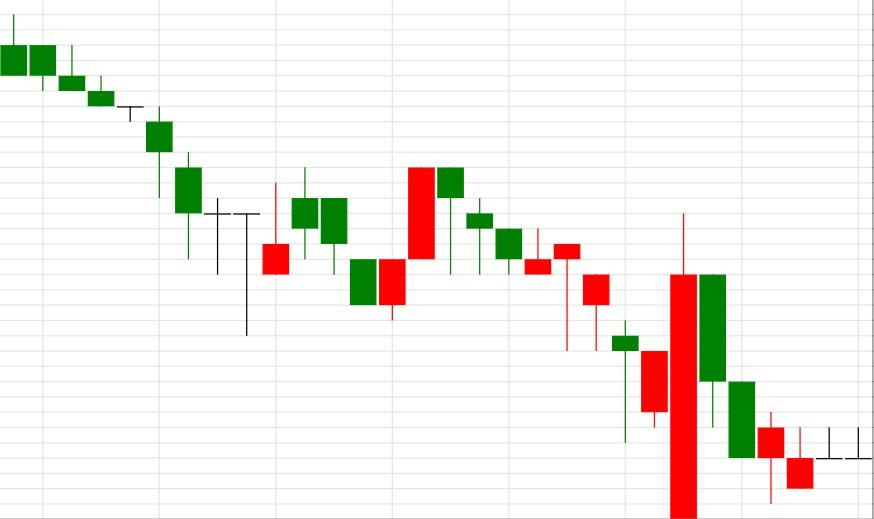hanging_man_fall: (350, 167, 464, 321)
inverse_hammer_rise: (0, 14, 290, 336)
three_black_crows_fall: (350, 167, 523, 321)
